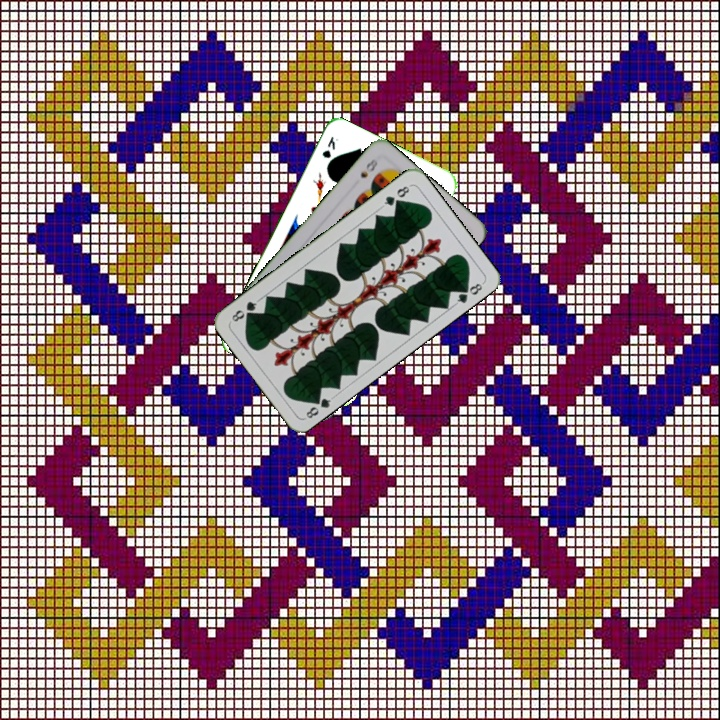G8: (301, 391, 336, 422), (378, 181, 413, 210)
GK: (318, 133, 341, 161)
S8: (356, 154, 380, 181)
